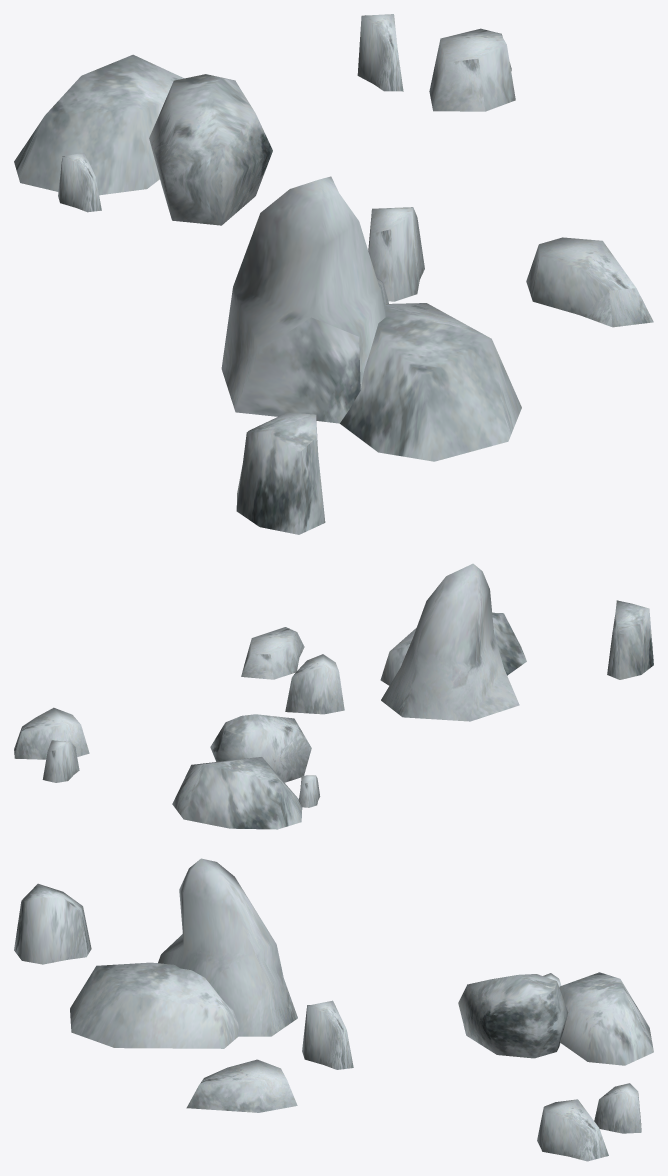
The model's file is S_Rock_White047.FBX.
3 views of the same model, one above another, from view 1: azimuth 30°, elevation 25°; view 2: azimuth 150°, elevation 25°; view 3: azimuth 270°, elevation 25° (orthographic). The views are drawn at different scales.
Parts seen in each view (by area): view 1: S_Rock_White047; view 2: S_Rock_White047; view 3: S_Rock_White047.
Part boxes in pixels (x1=…): S_Rock_White047: x1=14, y1=14, x2=653, y2=534; S_Rock_White047: x1=14, y1=563, x2=653, y2=829; S_Rock_White047: x1=14, y1=858, x2=653, y2=1161.
Bounding box in the file's own units: 215 × 267 × 67.46.
